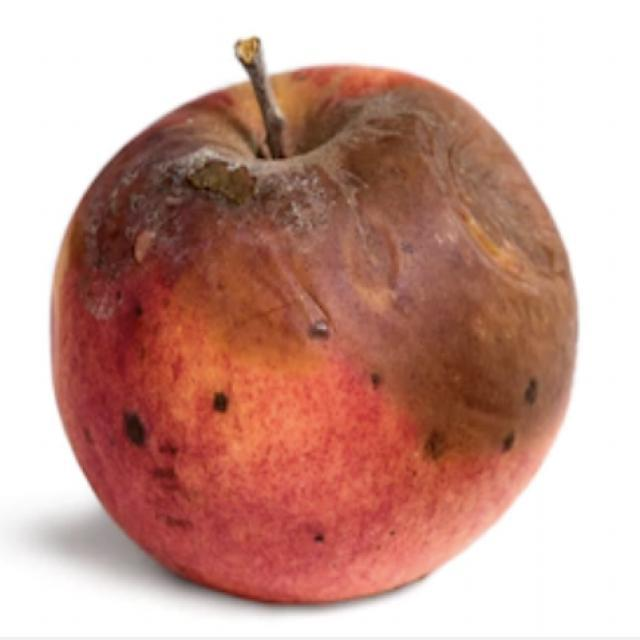Rotten: (61, 85, 592, 578)
